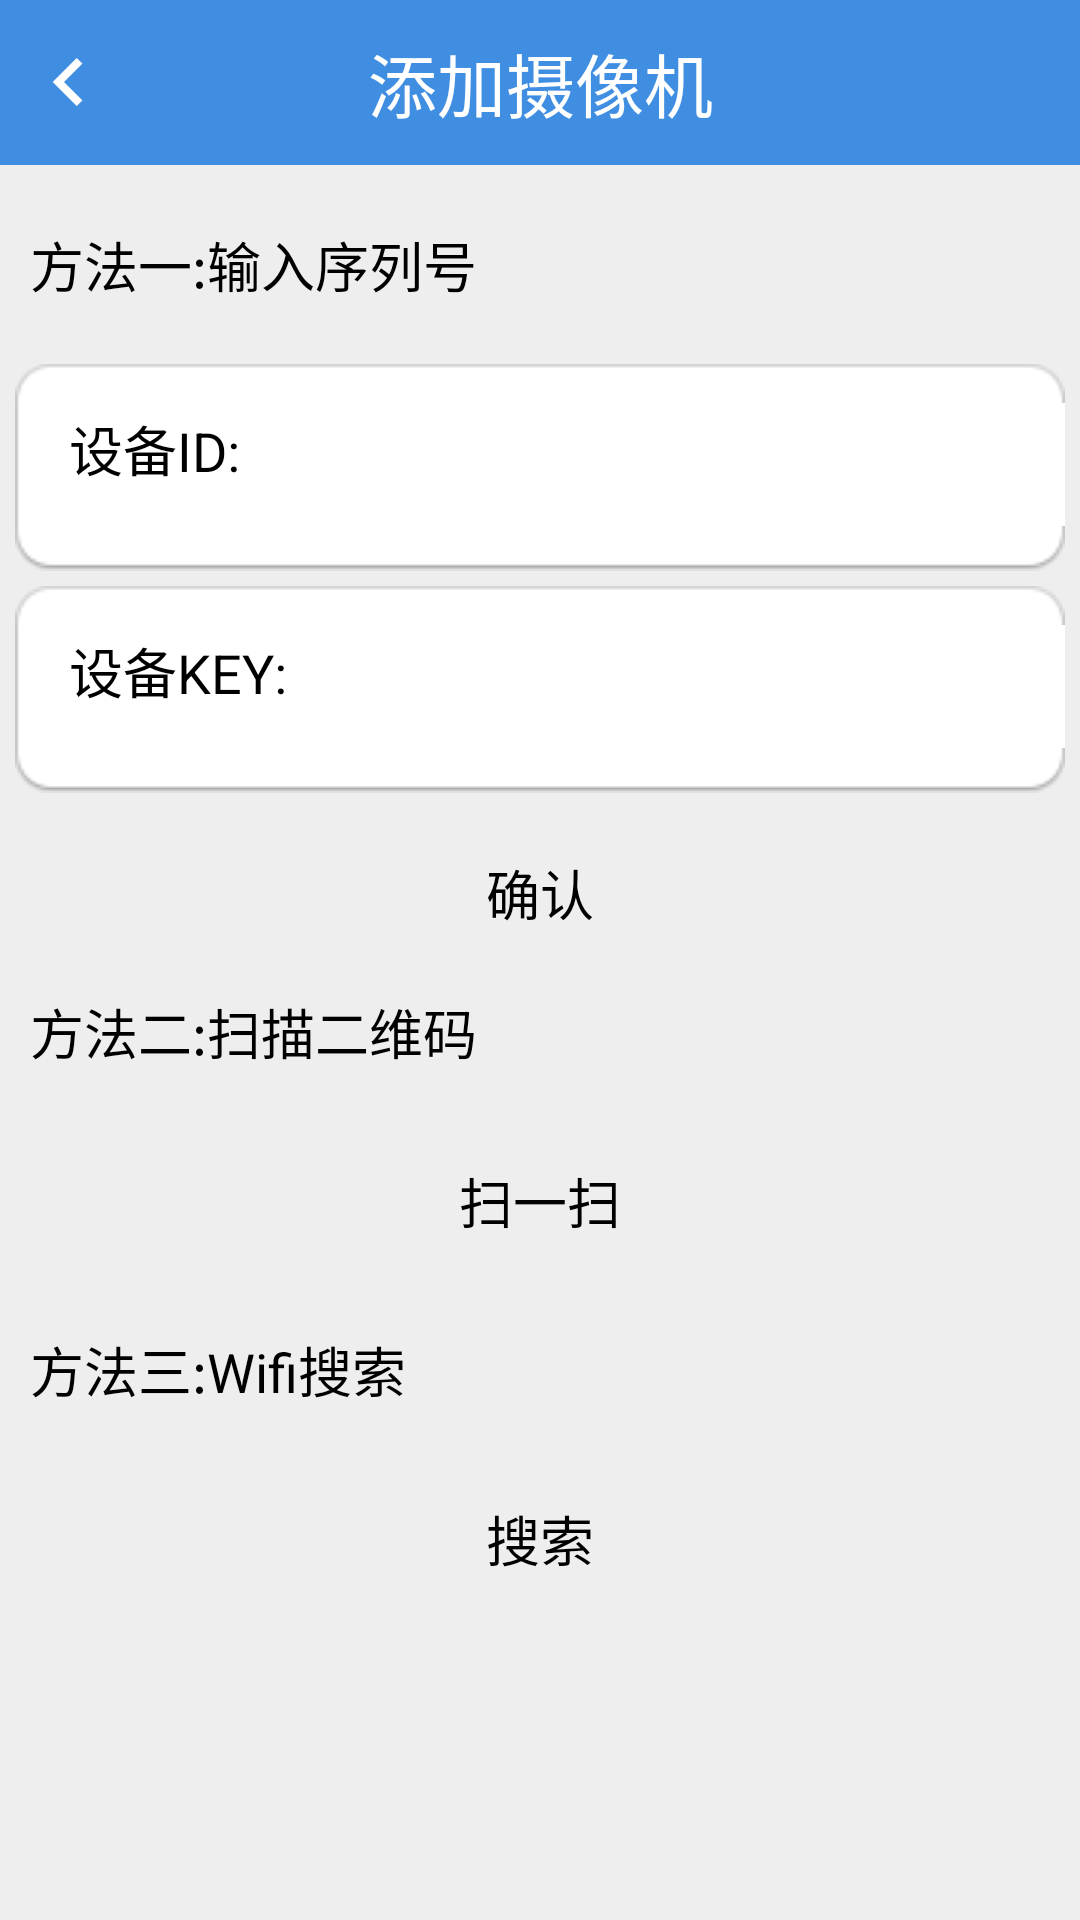

Icon click points for this 1080w x 1920h phone screenshot, format (x=x, y=y):
back: (x=68, y=82)
